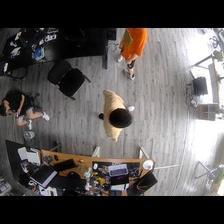normal: (95, 90, 134, 141), (116, 29, 147, 81)
